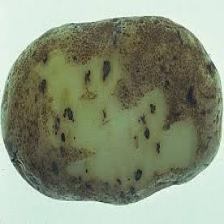Defected potato: (1, 15, 224, 206)
